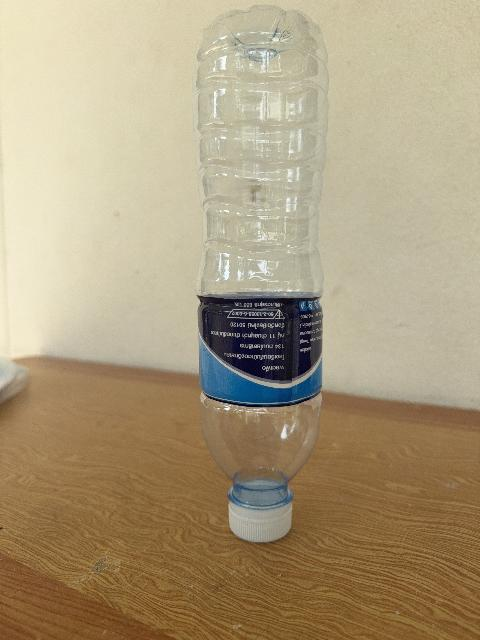bottle: (195, 6, 327, 541)
